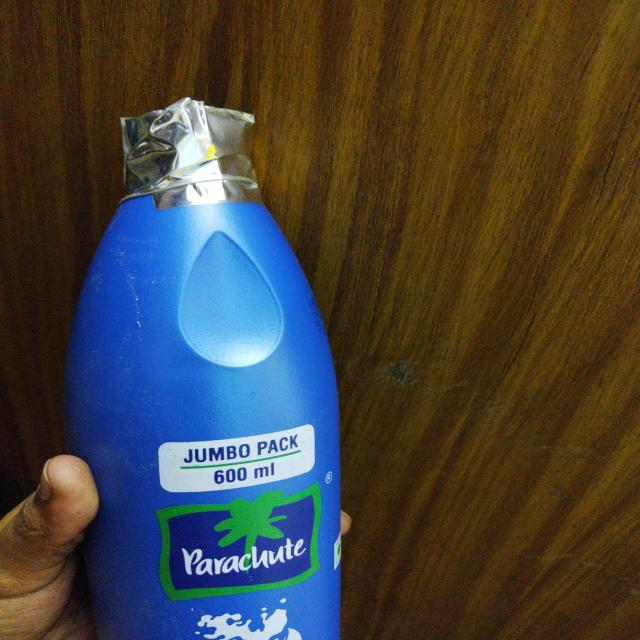parachute_oil: (56, 99, 353, 640)
